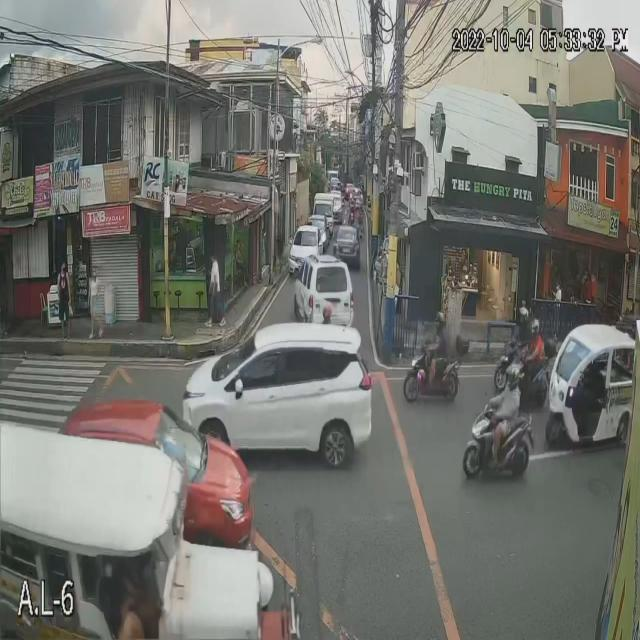full: (504, 364, 522, 391), (528, 316, 540, 337)
half: (434, 309, 447, 332), (517, 306, 529, 325)
